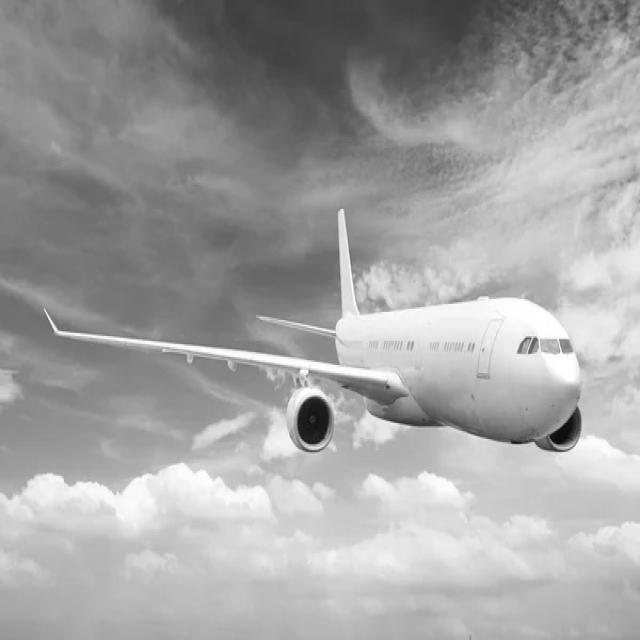Aircraft: (43, 197, 592, 453)
